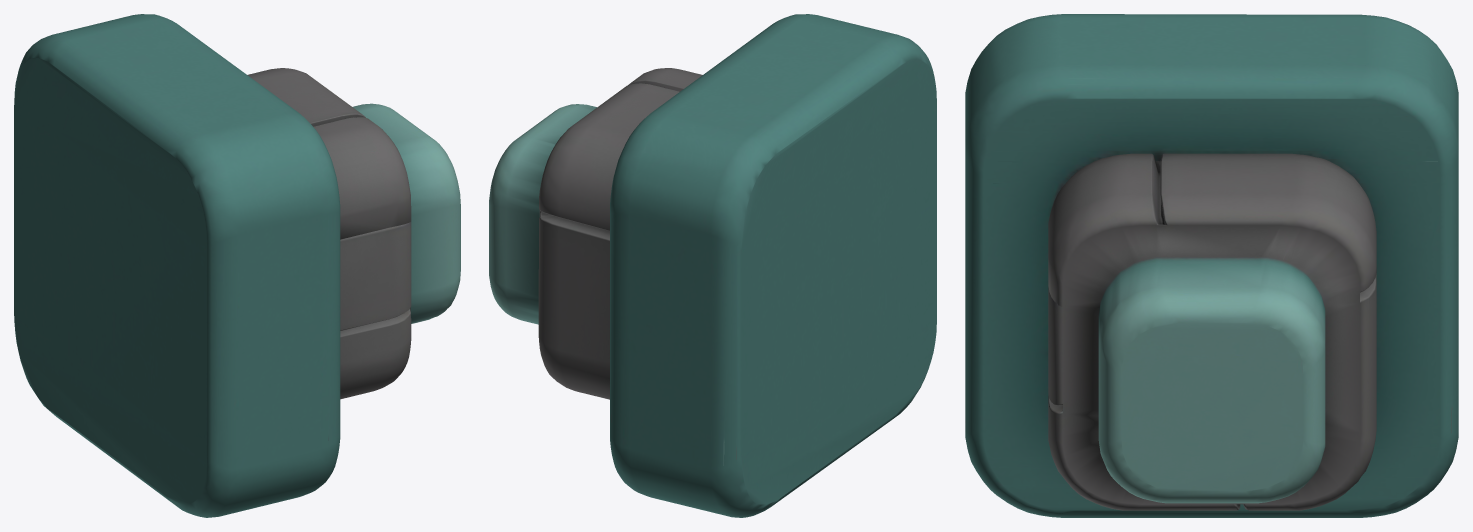
Rendered from icon-layers.glb.
3 renders of one model, left to right at view 1: azimuth 30°, elevation 25°; view 2: azimuth 150°, elevation 25°; view 3: azimuth 270°, elevation 25°, orthographic. The views are drawn at different scales.
Visible parts, largest first — view 1: tripo_node_kodyurd-model-52____________________; view 2: tripo_node_kodyurd-model-52____________________; view 3: tripo_node_kodyurd-model-52____________________.
Boxes of the visible parts, x1,y1,x2,y2 form: tripo_node_kodyurd-model-52____________________: (14, 14, 460, 517); tripo_node_kodyurd-model-52____________________: (489, 14, 936, 517); tripo_node_kodyurd-model-52____________________: (965, 14, 1458, 517).
Bounding box in the file's own units: 0.8613 × 0.998 × 0.998.
1 material, 1 textured.
